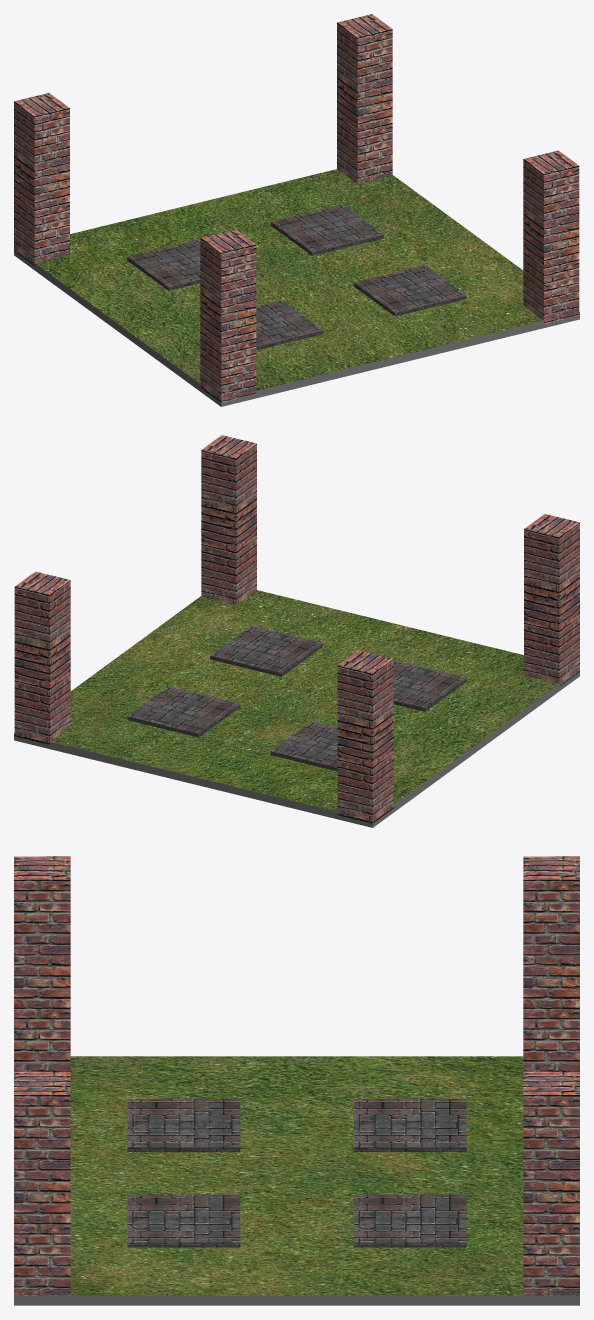
3 renders of one model, top to bottom at view 1: azimuth 30°, elevation 25°; view 2: azimuth 150°, elevation 25°; view 3: azimuth 270°, elevation 25°, orthographic. The views are drawn at different scales.
Visible parts, largest first — view 1: Kreuzung_Stein; view 2: Kreuzung_Stein; view 3: Kreuzung_Stein.
Part boxes in pixels (x1=…): Kreuzung_Stein: x1=14, y1=14, x2=579, y2=406; Kreuzung_Stein: x1=14, y1=435, x2=579, y2=827; Kreuzung_Stein: x1=14, y1=856, x2=579, y2=1305.
Bounding box in the file's own units: 5 × 2.05 × 5.
Materials: 14 (13 with a texture image).
